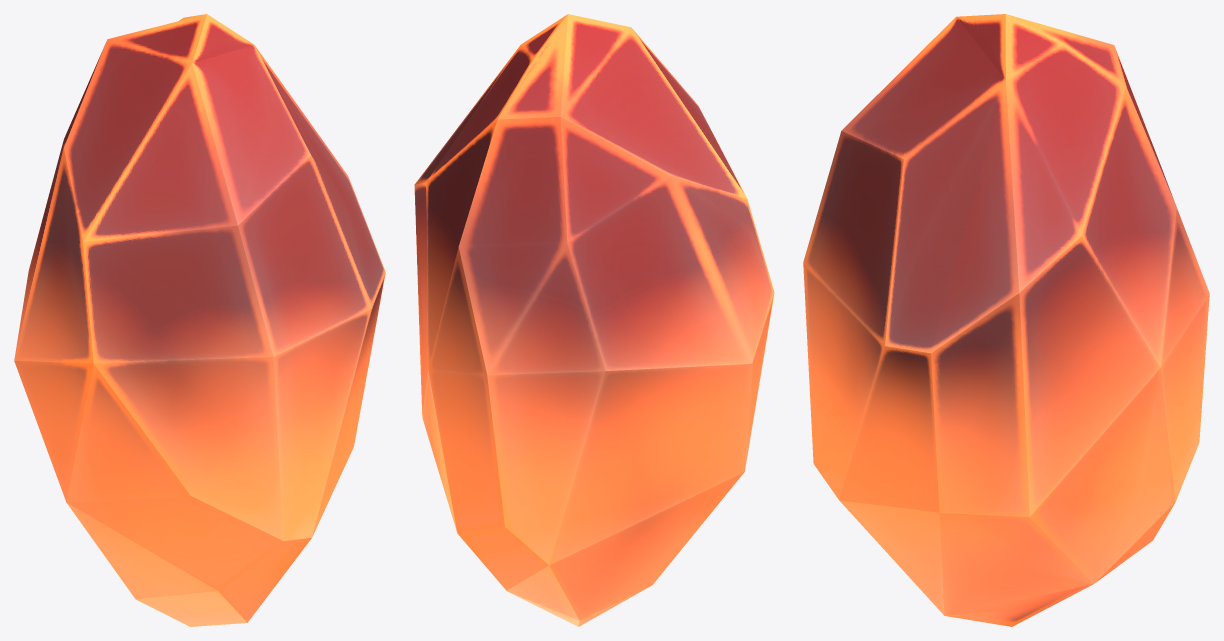
Rendered from boss_core.fbx.
3 views of the same model, side by side, from view 1: azimuth 30°, elevation 25°; view 2: azimuth 150°, elevation 25°; view 3: azimuth 270°, elevation 25° (orthographic). The views are drawn at different scales.
Visible parts, largest first — view 1: boss_core.001; view 2: boss_core.001; view 3: boss_core.001.
Boxes of the visible parts, bbox=[...] form: boss_core.001: bbox=[14, 14, 385, 626]; boss_core.001: bbox=[414, 14, 774, 626]; boss_core.001: bbox=[803, 14, 1209, 626].
Size of the model in its own units: 6.26 by 10.86 by 6.45.
